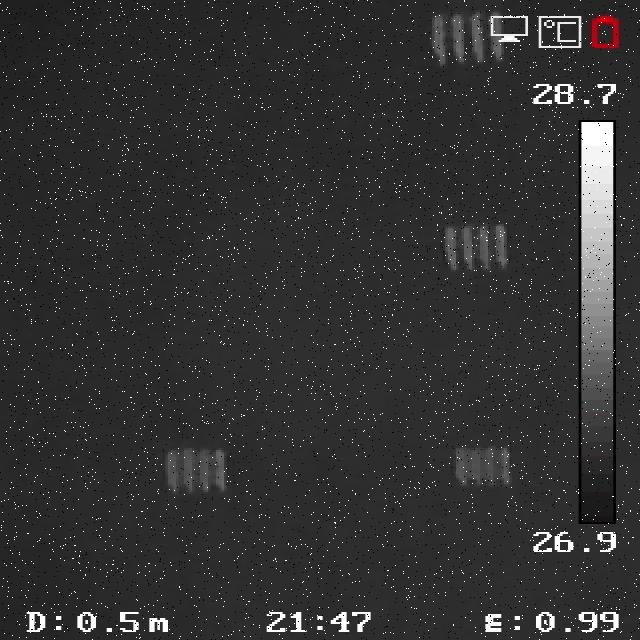Distinguishable 4-bar target: (424, 13, 515, 66), (437, 227, 511, 271)
threshold 4-bar target: (165, 450, 224, 489), (452, 450, 509, 484)
